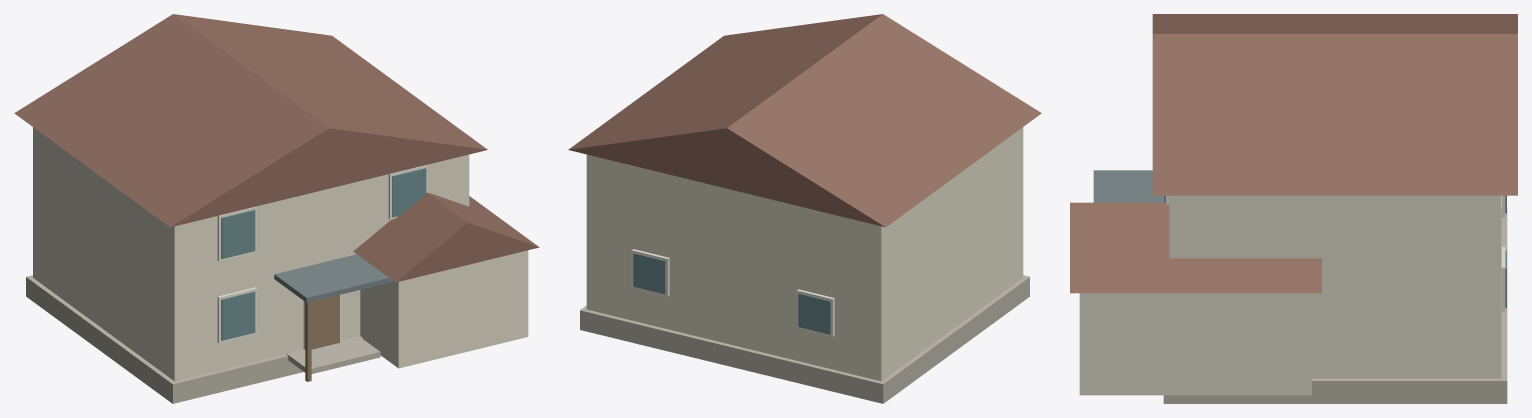
3 views of the same model, side by side, from view 1: azimuth 30°, elevation 25°; view 2: azimuth 150°, elevation 25°; view 3: azimuth 270°, elevation 25° (orthographic). The views are drawn at different scales.
Size of the model in its own units: 11.56 by 8 by 11.47.
